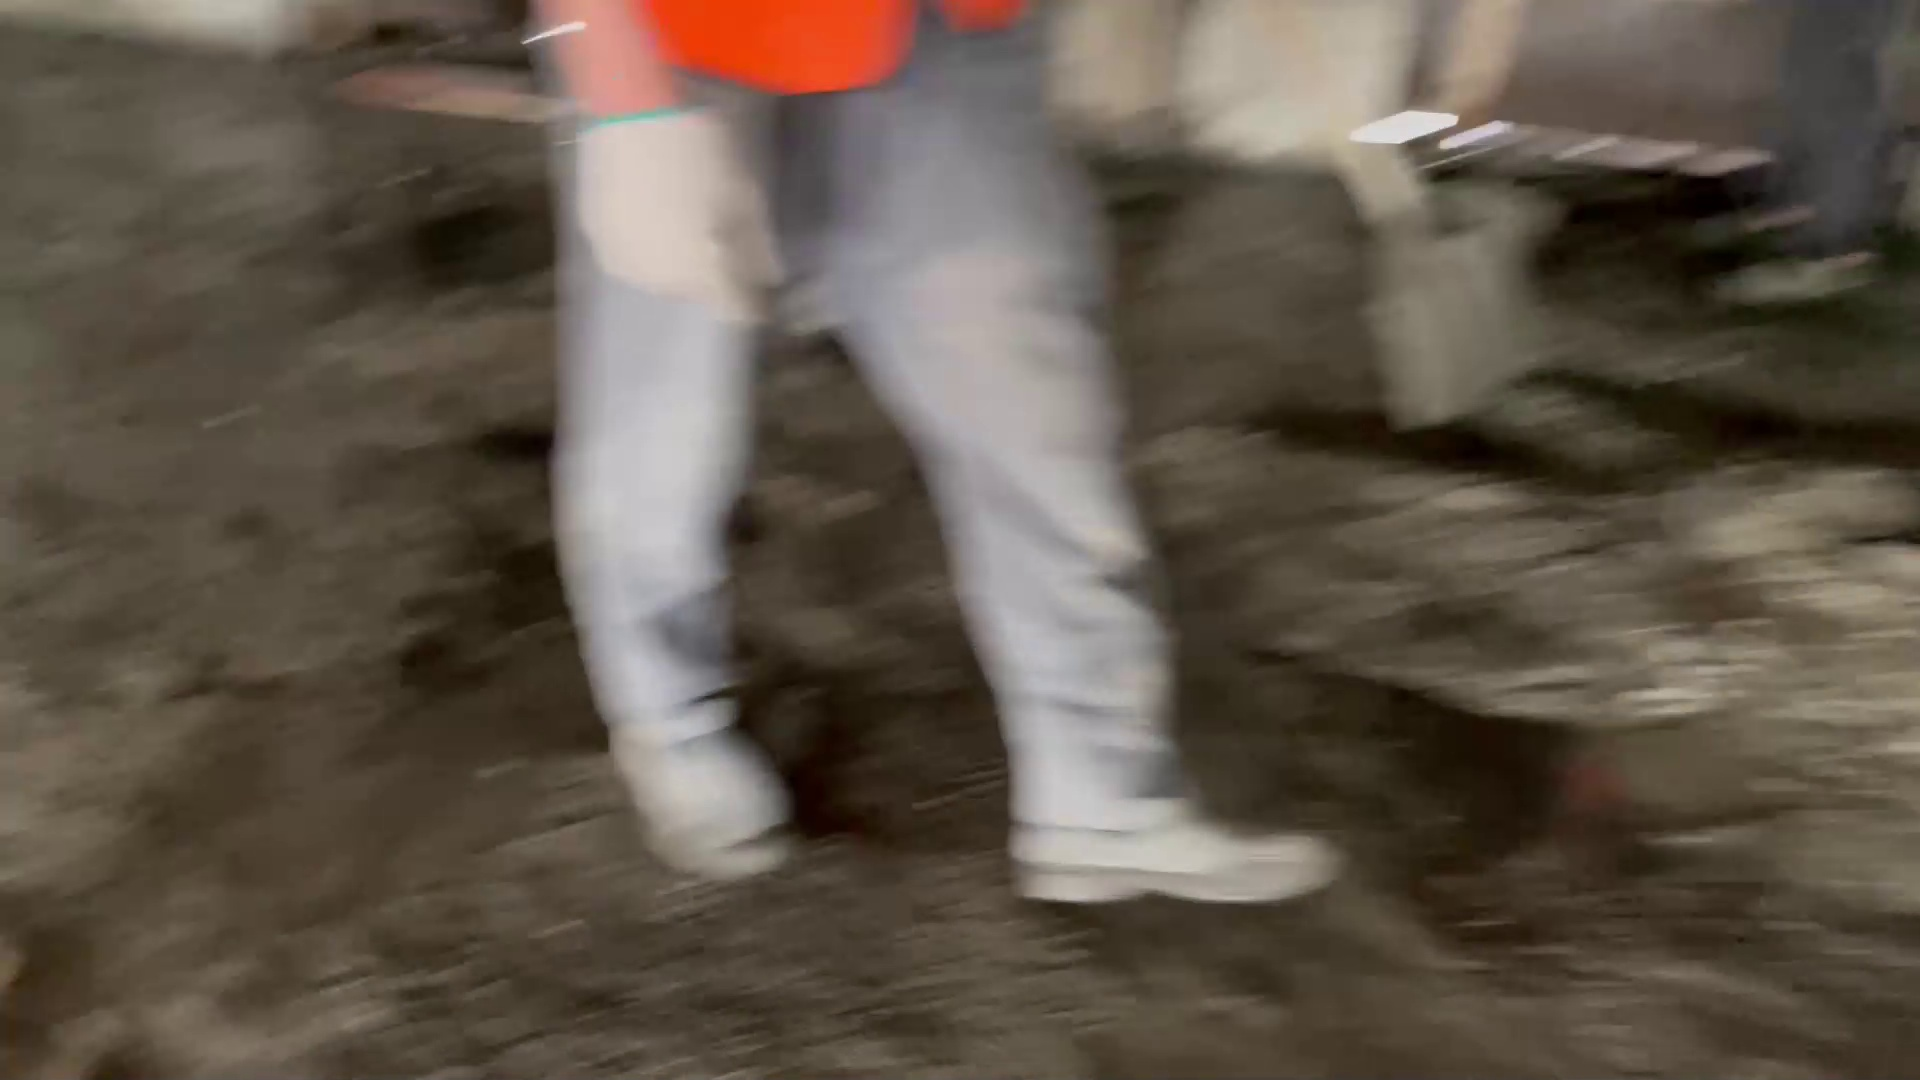person: (482, 1, 1359, 924)
vest: (637, 1, 1038, 78)
